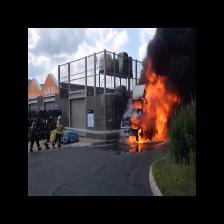fire: (139, 83, 174, 144)
smoke: (154, 34, 195, 80)
